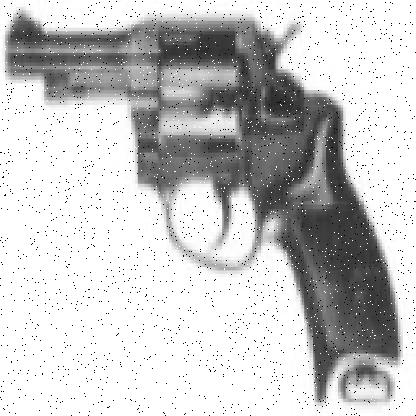pistol: (8, 10, 401, 409)
